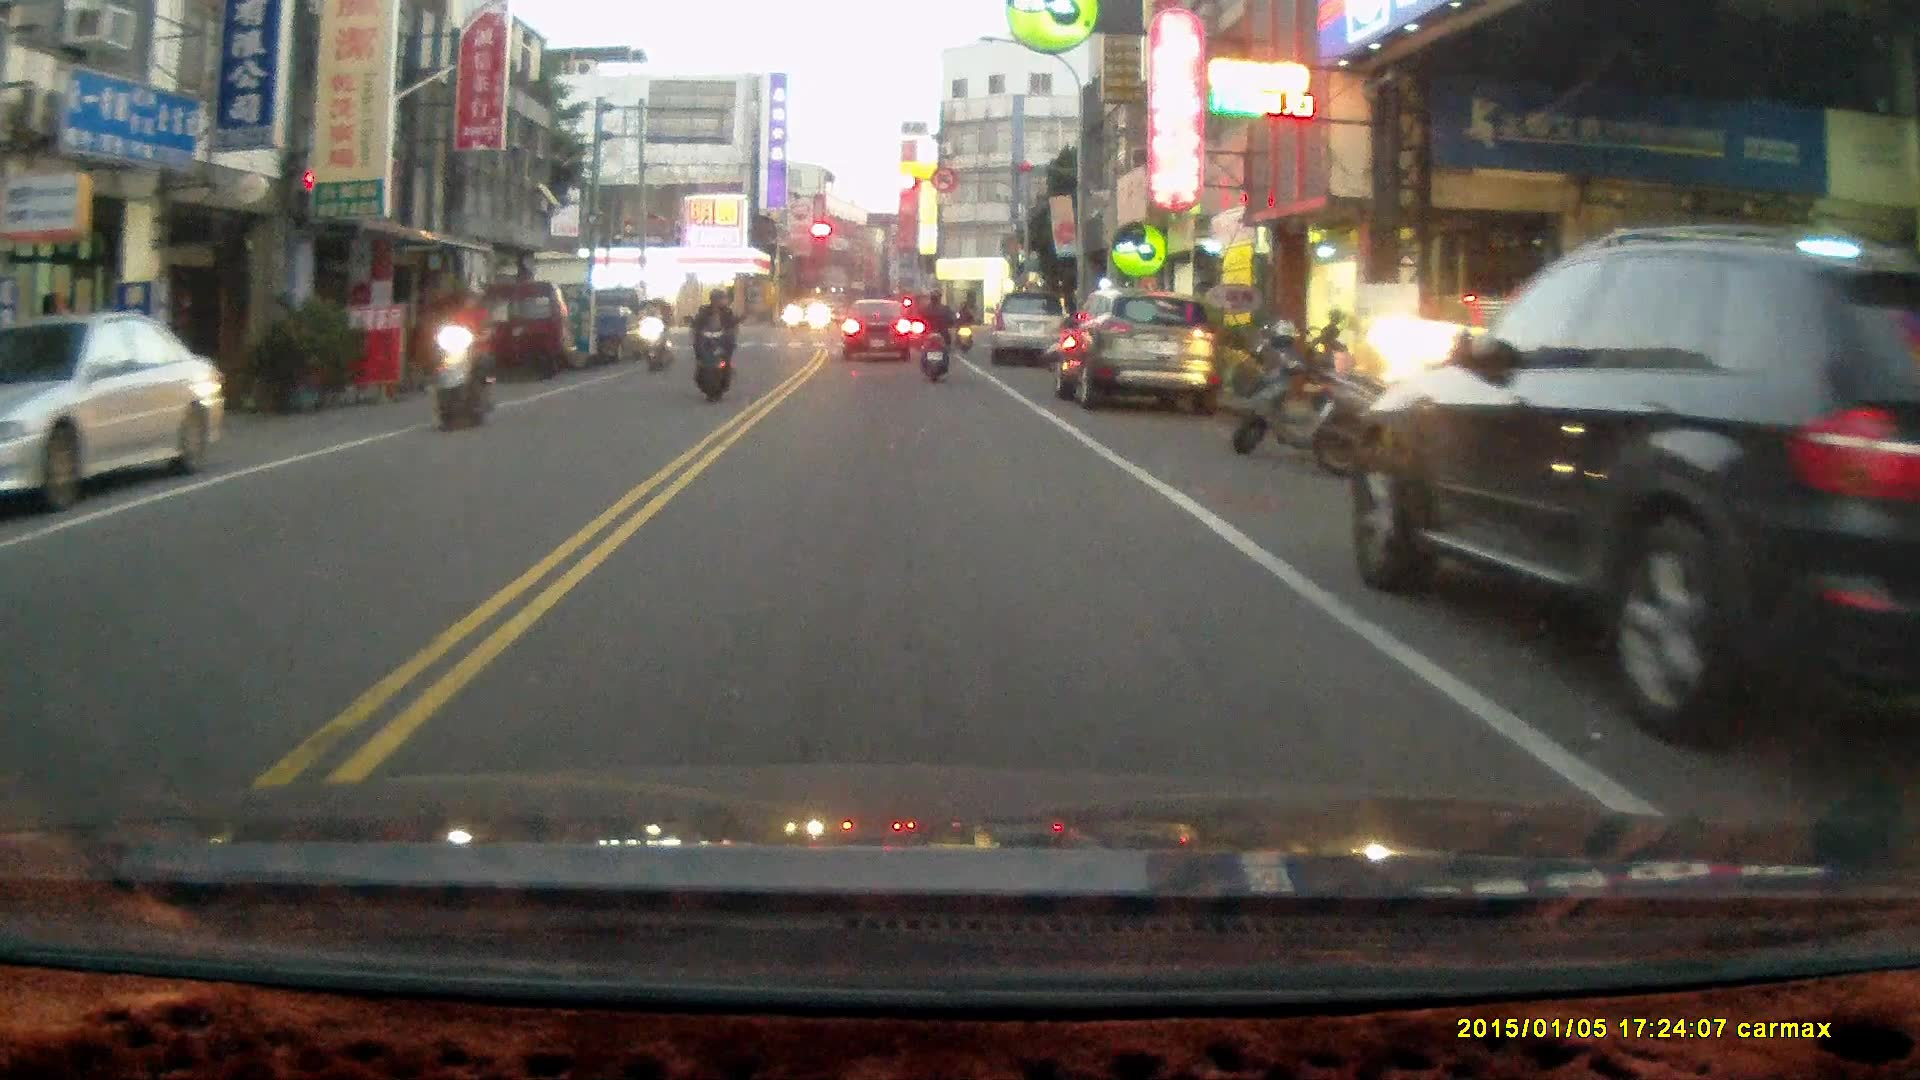rider: (431, 282, 499, 428), (688, 281, 733, 402), (913, 285, 954, 383), (637, 291, 672, 374), (953, 295, 975, 352)
vehicle: (1347, 231, 1920, 774), (1, 314, 228, 510), (1054, 288, 1217, 408), (415, 279, 580, 383), (995, 285, 1074, 363)
